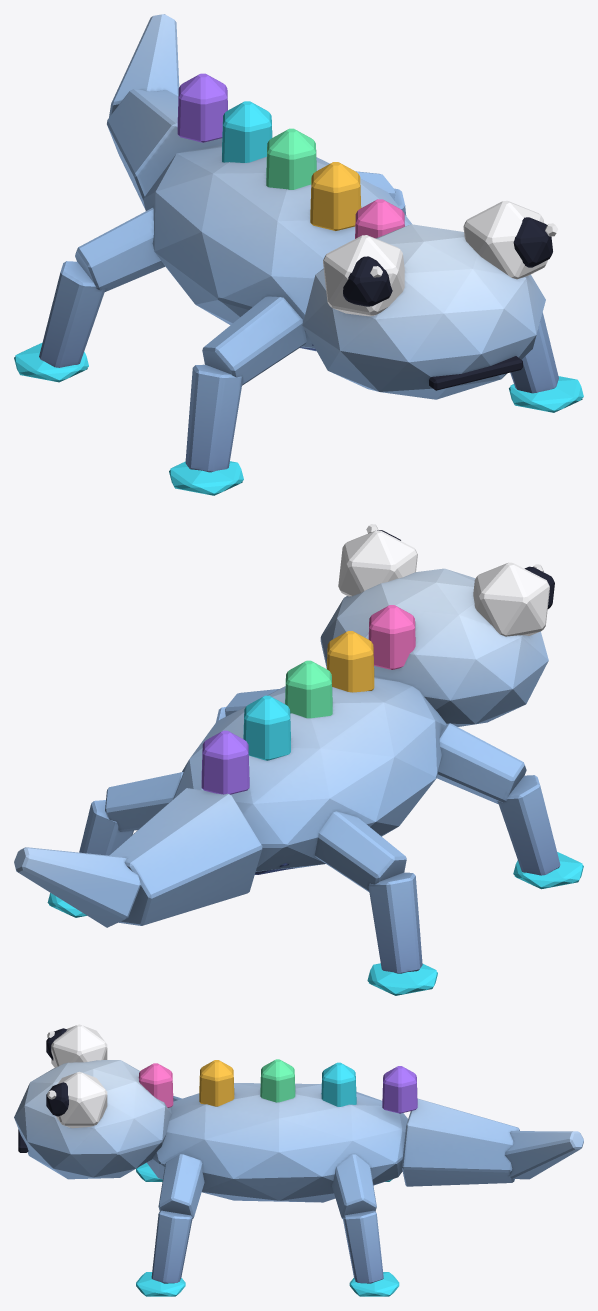
The model's file is GemGecko.fbx.
3 renders of one model, top to bottom at view 1: azimuth 30°, elevation 25°; view 2: azimuth 150°, elevation 25°; view 3: azimuth 270°, elevation 25°, orthographic. The views are drawn at different scales.
Parts seen in each view (by area): view 1: GemGecko_Body, RFLeg.001, RHLeg.001, LFLeg.001; view 2: GemGecko_Body, RHLeg.001, RFLeg.001, LHLeg.001; view 3: GemGecko_Body, LHLeg.001, LFLeg.001.
Boxes of the visible parts, left/top/right/bottom form: GemGecko_Body: left=75, top=14, right=557, bottom=399; RFLeg.001: left=169, top=364, right=243, bottom=495; RHLeg.001: left=14, top=261, right=105, bottom=382; LFLeg.001: left=509, top=312, right=583, bottom=412; GemGecko_Body: left=14, top=524, right=554, bottom=927; RHLeg.001: left=367, top=872, right=437, bottom=995; RFLeg.001: left=497, top=775, right=583, bottom=889; LHLeg.001: left=47, top=800, right=133, bottom=917; GemGecko_Body: left=14, top=1024, right=583, bottom=1218; LHLeg.001: left=343, top=1210, right=399, bottom=1296; LFLeg.001: left=136, top=1210, right=192, bottom=1296.
Bounding box in the file's own units: 3.17 × 2.01 × 5.6.
Materials: 1 (1 with a texture image).
